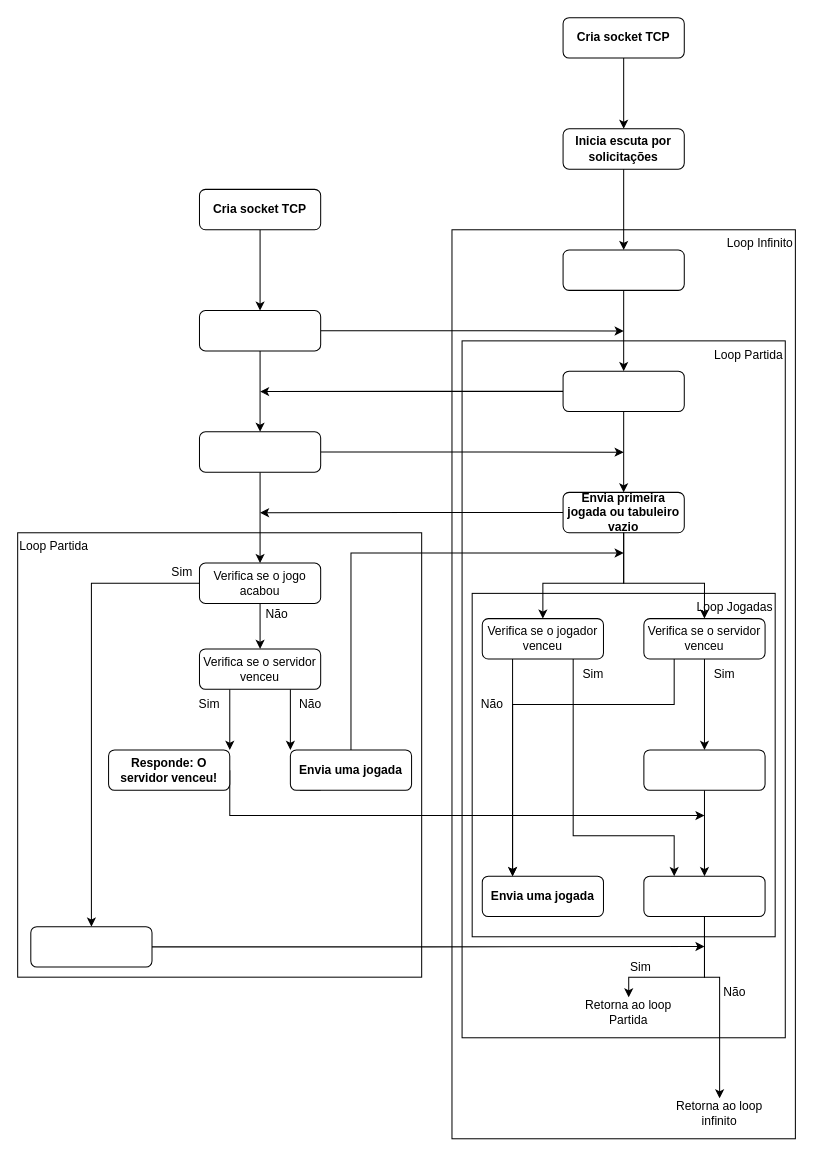
The diagram is 813 pixels wide and 1156 high, and some of its shapes have lost their labels. Each missing label, with the centre of its shape:
"Conecta ao servidor" belongs at point (259, 330).
"Envia jogada feita pelo servidor" belongs at point (704, 769).
"Espera por solicitaçoes" belongs at point (623, 269).
"Pergunta se deseja jogar novamente" belongs at point (704, 896).
"Pergunta se deseja ser o primeiro a jogar" belongs at point (623, 391).
"Responde se deseja jogar novamente" belongs at point (91, 946).
"Responde se deseja ser o primeiro" belongs at point (259, 451).
